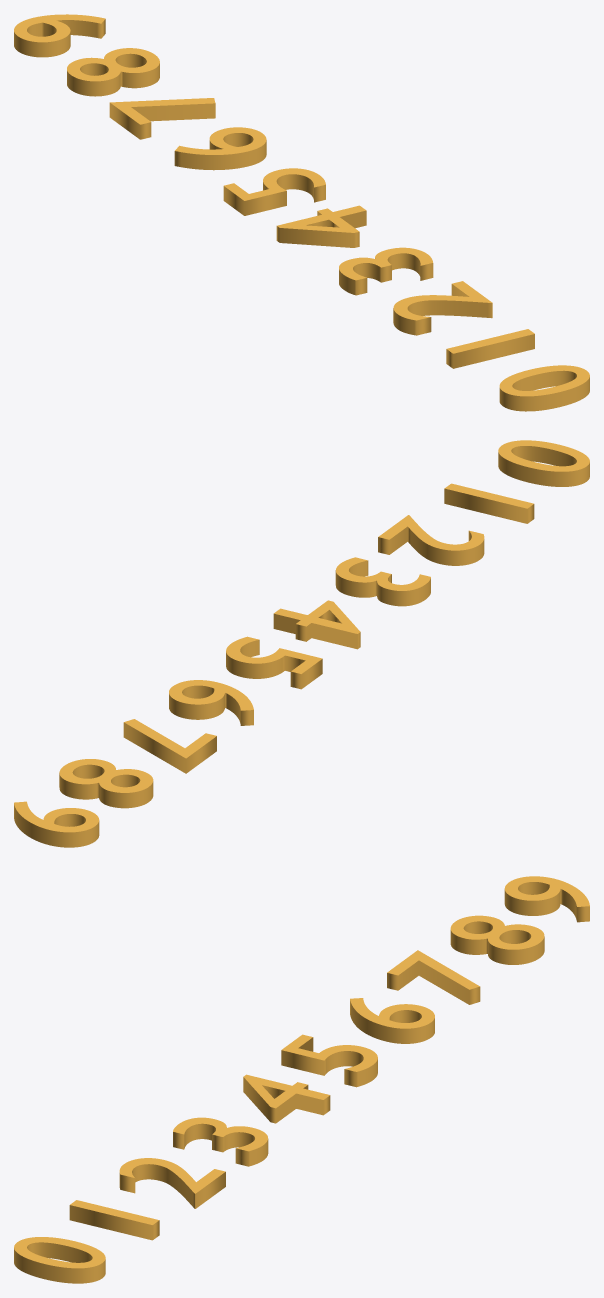
File: number1.fbx
3 renders of one model, top to bottom at view 1: azimuth 30°, elevation 25°; view 2: azimuth 150°, elevation 25°; view 3: azimuth 330°, elevation 25°, orthographic.
Parts seen in each view (by area): view 1: 8, 0, 2, 6, 9, 4, 5, 7, 3, 1; view 2: 8, 0, 5, 9, 6, 3, 2, 4, 7, 1; view 3: 8, 0, 5, 9, 6, 3, 2, 4, 7, 1.
Boxes of the visible parts, x1,y1,x2,y2 form: 8: (67, 48, 159, 96); 0: (499, 365, 589, 411); 2: (393, 281, 492, 335); 6: (174, 127, 266, 170); 9: (14, 14, 105, 57); 4: (276, 205, 366, 247); 5: (223, 168, 325, 215); 7: (109, 98, 215, 139); 3: (339, 247, 433, 295); 1: (446, 329, 534, 368); 8: (59, 759, 153, 808); 0: (498, 440, 589, 486); 5: (226, 636, 322, 689); 9: (14, 801, 99, 847); 6: (169, 680, 253, 725); 3: (335, 557, 430, 606); 2: (378, 515, 484, 565); 4: (273, 600, 360, 649); 7: (123, 719, 216, 773); 1: (444, 483, 534, 523); 8: (450, 915, 544, 964); 0: (14, 1237, 105, 1283); 5: (281, 1034, 377, 1087); 9: (504, 876, 589, 922); 6: (350, 998, 434, 1043); 3: (173, 1117, 268, 1166); 2: (119, 1158, 225, 1208); 4: (243, 1074, 330, 1123); 7: (387, 950, 480, 1004); 1: (69, 1200, 159, 1240).
Size of the model in its own units: 70 by 12 by 743.
